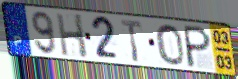2: (89, 15, 123, 62)
9: (30, 10, 57, 56)
H: (54, 13, 90, 60)
O: (154, 22, 186, 67)
P: (184, 24, 213, 70)
T: (119, 18, 144, 64)
